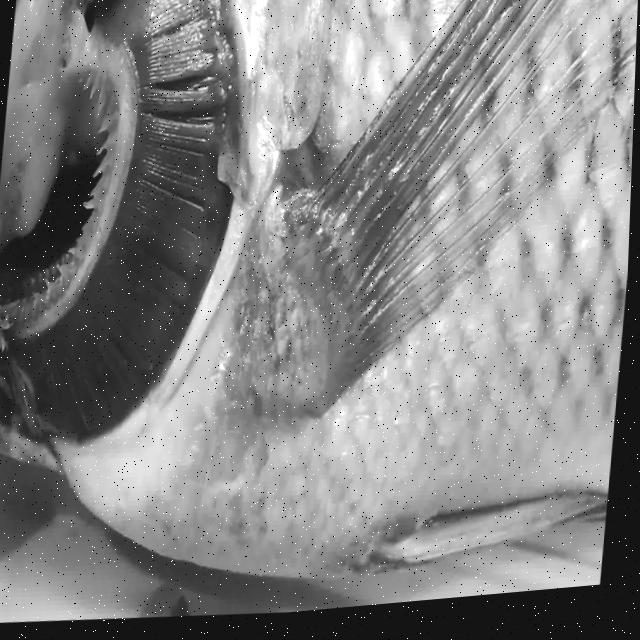Non-Fresh: (0, 0, 241, 479)
